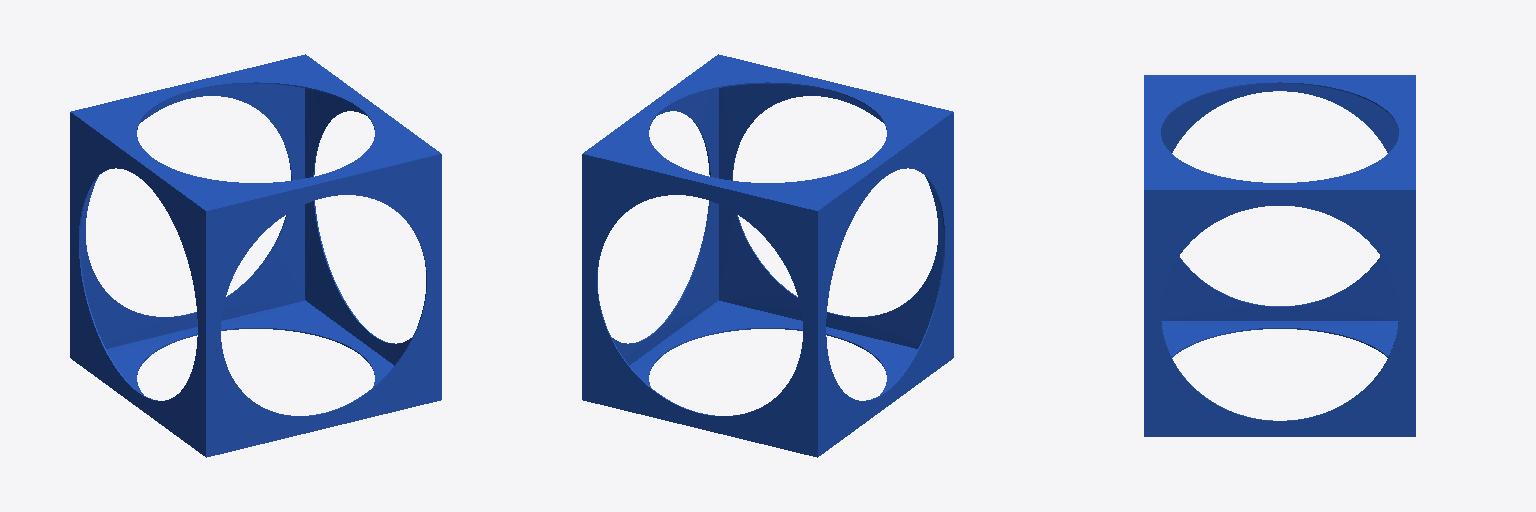
Rendered from lightbluecube.obj.
3 views of the same model, side by side, from view 1: azimuth 30°, elevation 25°; view 2: azimuth 150°, elevation 25°; view 3: azimuth 270°, elevation 25° (orthographic).
Visible parts, largest first — view 1: Cube.002; view 2: Cube.002; view 3: Cube.002.
Part boxes in pixels (bbox=[...]): Cube.002: bbox=[70, 54, 441, 457]; Cube.002: bbox=[582, 54, 953, 457]; Cube.002: bbox=[1144, 75, 1415, 436].
Bounding box in the file's own units: 4 × 4 × 4.